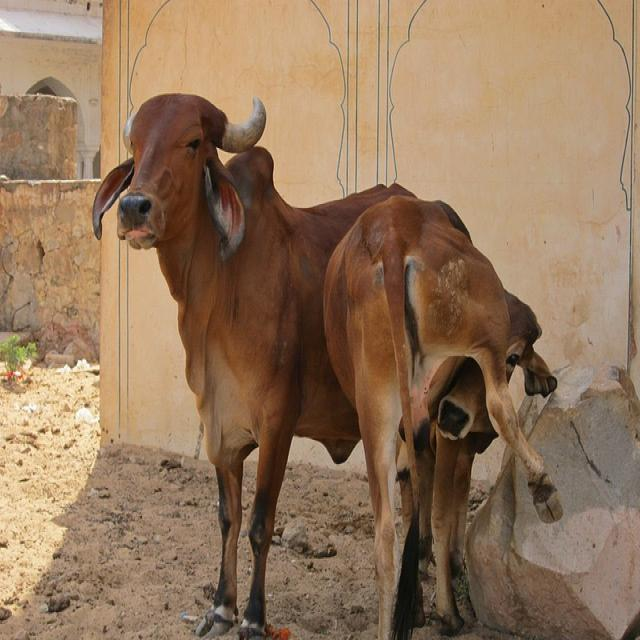cow: (90, 98, 422, 630), (366, 199, 562, 628), (323, 192, 497, 615)
